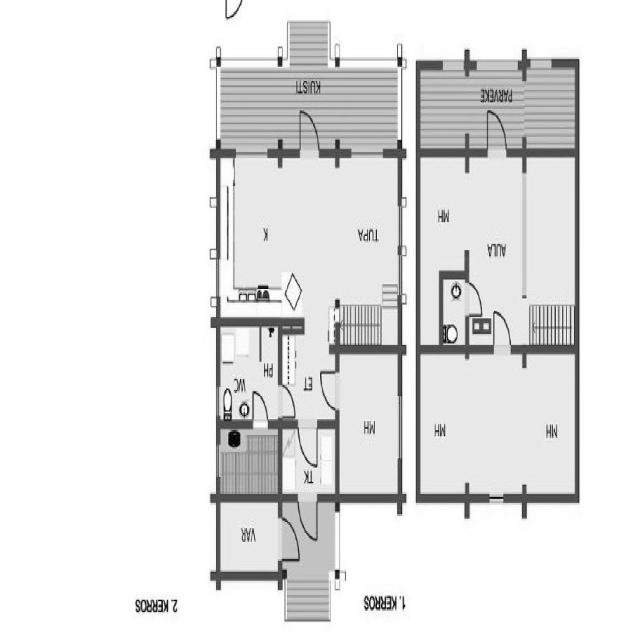door: (296, 483, 322, 553), (296, 105, 324, 169), (295, 414, 321, 480), (483, 105, 509, 162), (316, 370, 342, 426), (486, 306, 514, 356), (271, 378, 297, 425), (244, 390, 270, 432), (276, 513, 296, 566), (461, 273, 483, 314)
window: (394, 191, 412, 328), (229, 137, 280, 171), (392, 383, 406, 472), (476, 486, 511, 518), (348, 138, 388, 163), (209, 438, 224, 492), (210, 372, 225, 424), (212, 258, 224, 298)
zone: (216, 153, 401, 312), (416, 345, 576, 499), (334, 338, 400, 504), (520, 143, 583, 310), (422, 152, 472, 356), (209, 321, 280, 425), (215, 492, 280, 576), (218, 421, 278, 496), (441, 278, 468, 346)
